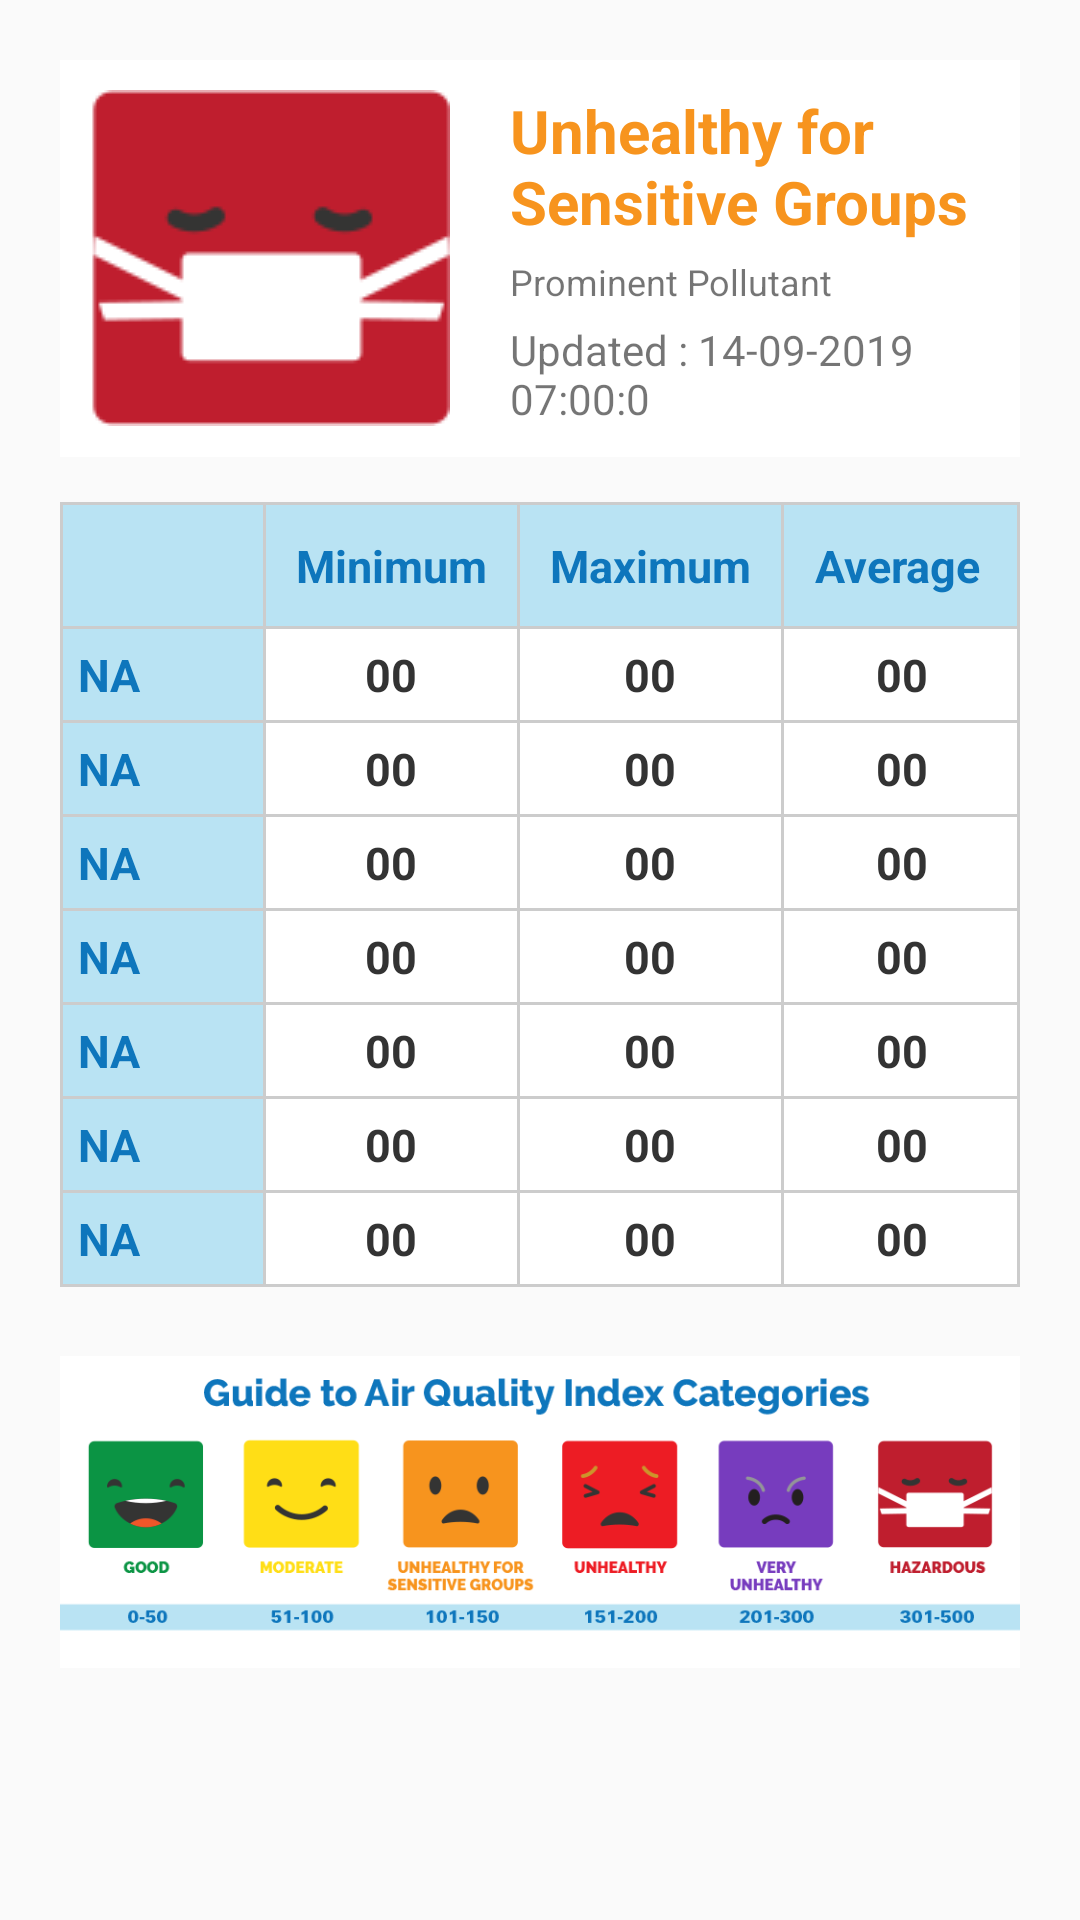

Screen size 1080px x 1920px. Icon name, then its box in pixels as [left=x1, top=y1, right=x2, bottom=y2]:
aqi level: [left=92, top=90, right=450, bottom=426]
